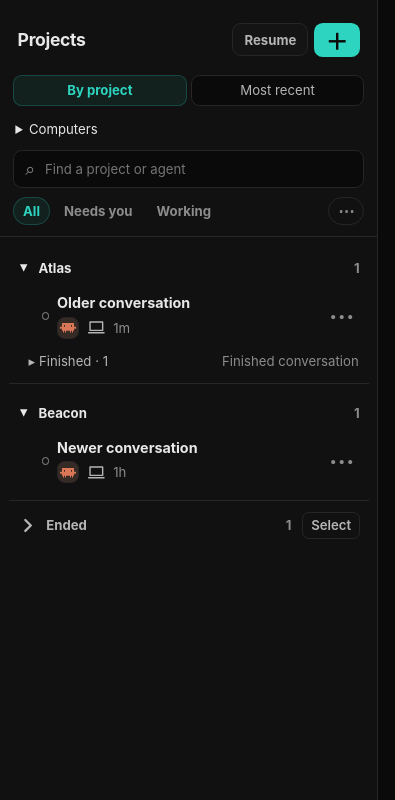
Test: capability: choose how the navigator groups sessions › groups by project until the person asks for one recent list
Expected: the button "▸ Atlas 1" is shown, [9,251,369,285]
Expected: the button "▸ Beacon 1" is shown, [9,396,369,430]
Step 1. Click the button "Most recent" → x=278, y=90, box [191,75,364,106]
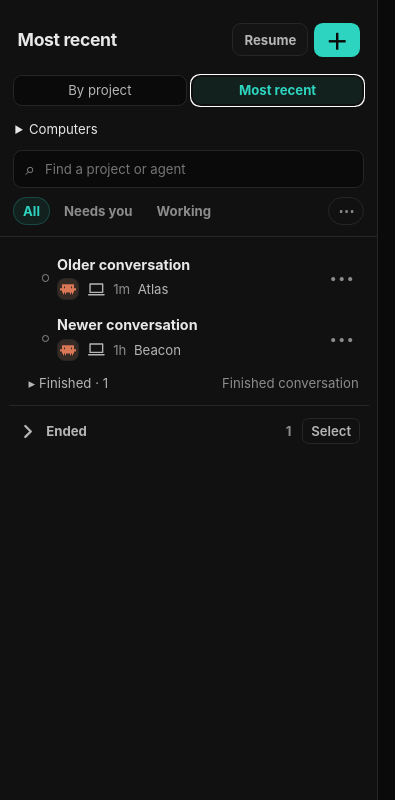
Expected: the text "Atlas" is shown, [138,281,168,297]
Expected: the button "▸ Beacon 1" is gone
